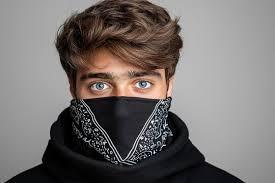mask: (64, 88, 182, 160)
